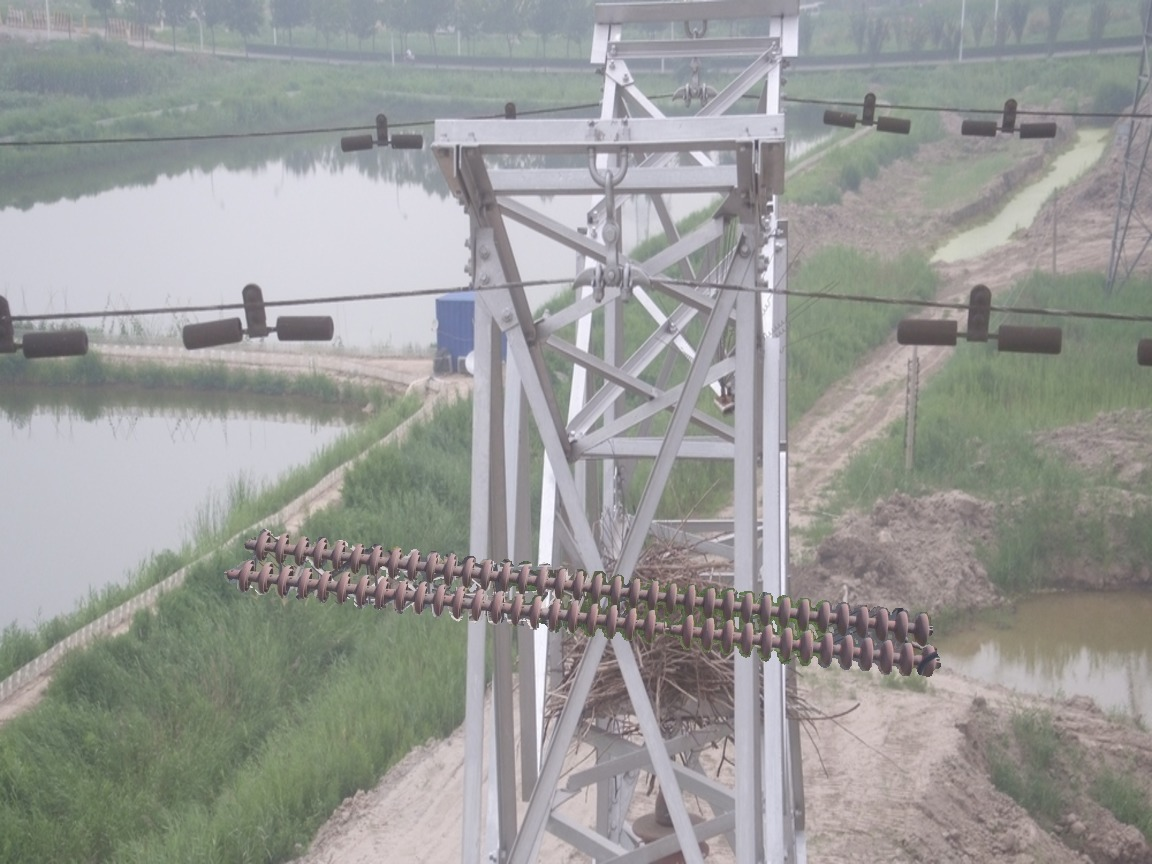defect: (640, 609, 704, 645)
